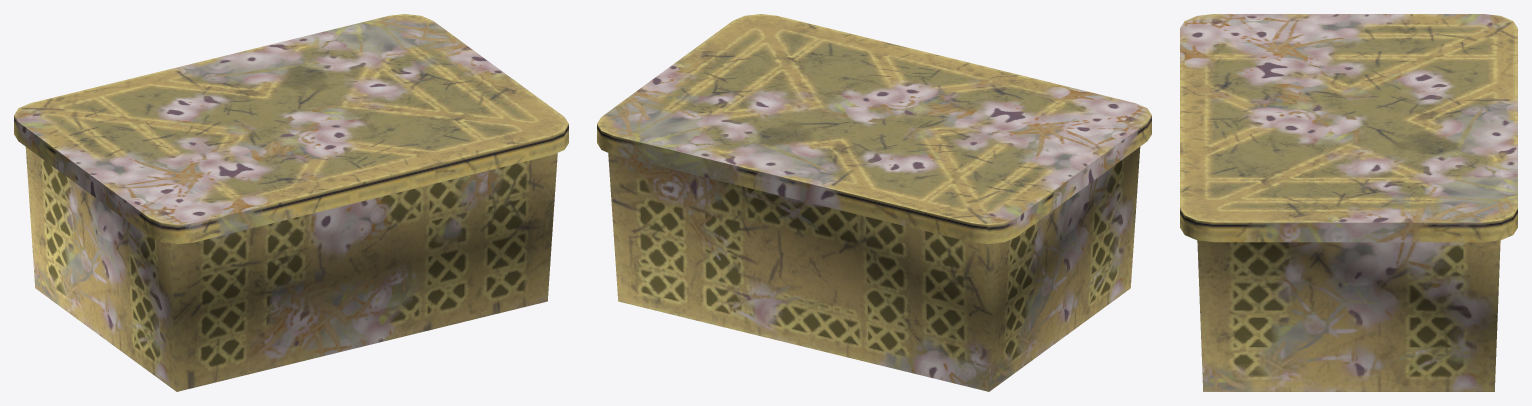
The picture shows the model from 3 angles, left to right: view 1: azimuth 30°, elevation 25°; view 2: azimuth 150°, elevation 25°; view 3: azimuth 270°, elevation 25°; orthographic projection. The views are drawn at different scales.
Parts seen in each view (by area): view 1: Obj_WallaContainer00_box11__Container01; view 2: Obj_WallaContainer00_box11__Container01; view 3: Obj_WallaContainer00_box11__Container01.
Boxes of the visible parts, x1,y1,x2,y2 form: Obj_WallaContainer00_box11__Container01: (14, 14, 568, 391); Obj_WallaContainer00_box11__Container01: (597, 14, 1151, 391); Obj_WallaContainer00_box11__Container01: (1180, 14, 1517, 391).
Bounding box in the file's own units: 1.38 × 0.5584 × 0.9465.
Materials: 1 (1 with a texture image).
